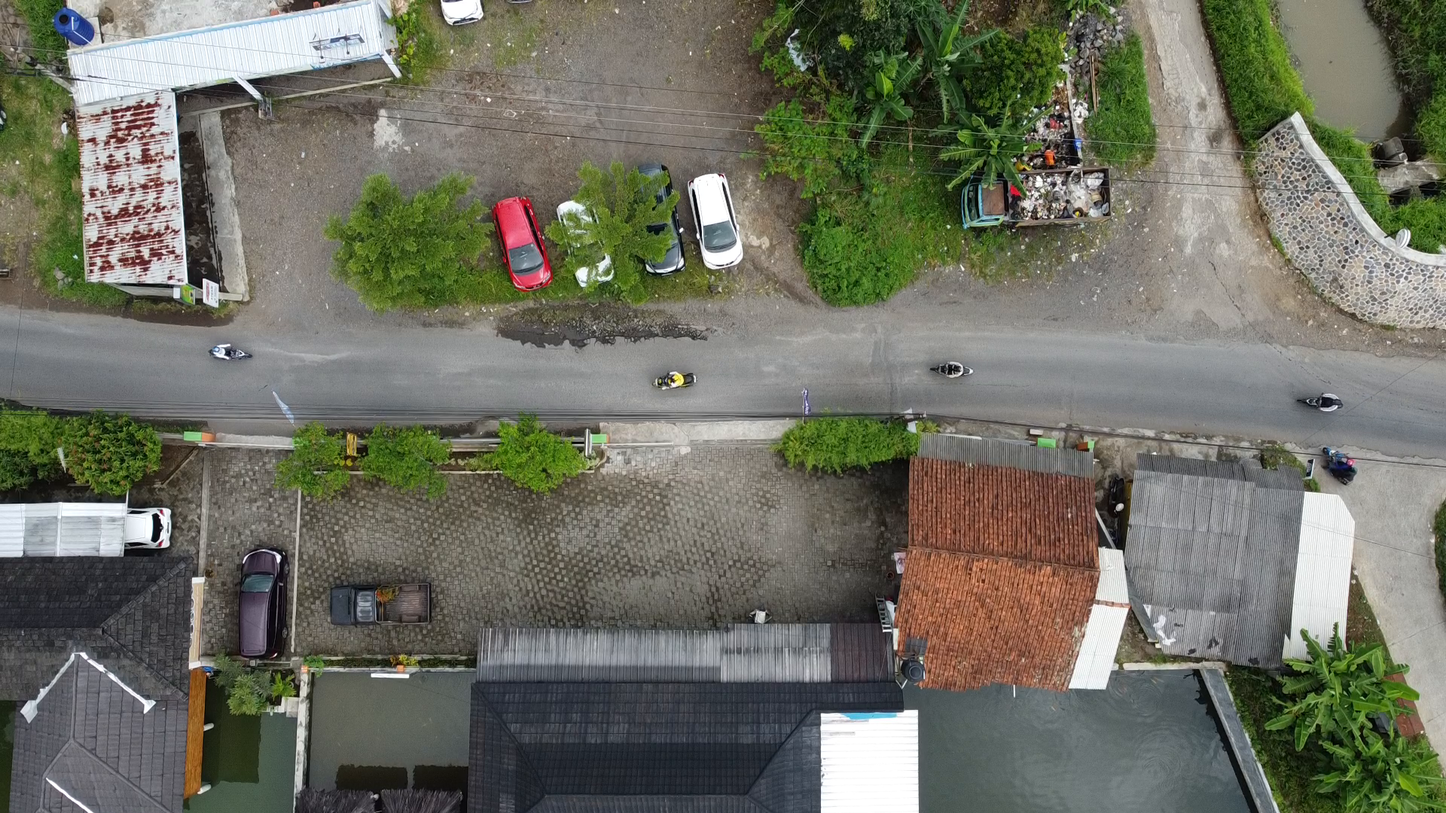mobil: (619, 154, 690, 279), (678, 171, 758, 277), (484, 187, 557, 297), (228, 551, 294, 671), (322, 577, 445, 638), (548, 196, 621, 297), (125, 509, 184, 561)
